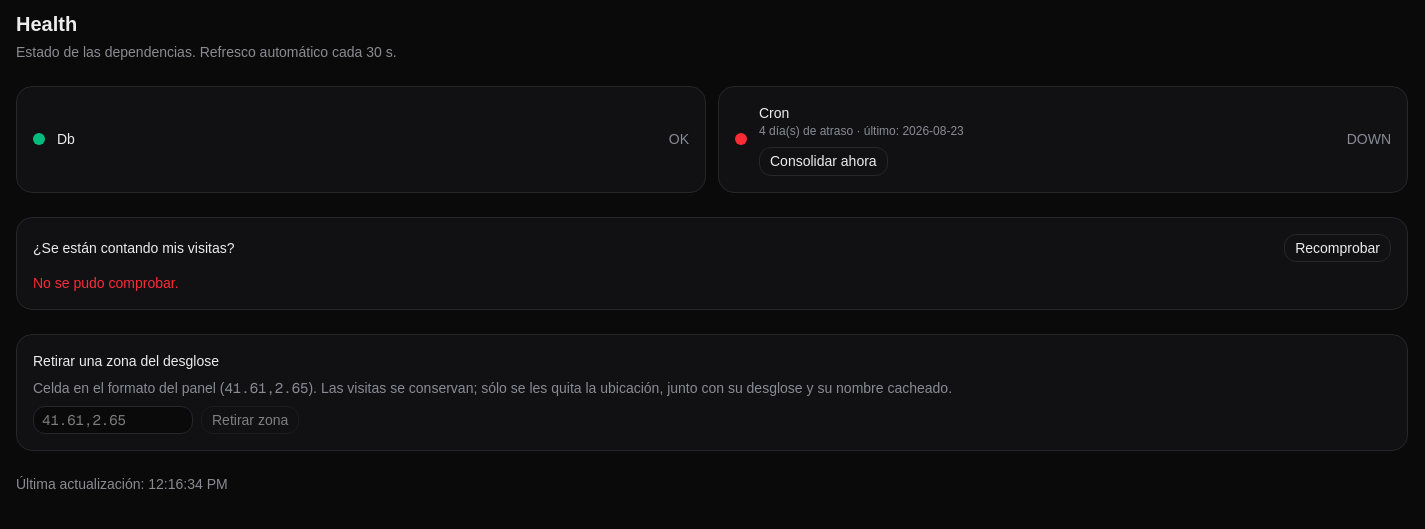
/admin/health · consolidar analítica a mano › un fallo se muestra con su motivo, no en silencio
This screenshot has width=1425, height=529.
Expected: the text "4 día(s) de atraso · último: 2026-08-23" is shown, [759,124,964,138]
What coordinates should you click on to do the following:
click the button "Consolidar ahora"
I would click on:
 (823, 161)
Its box is [759,147,888,176].
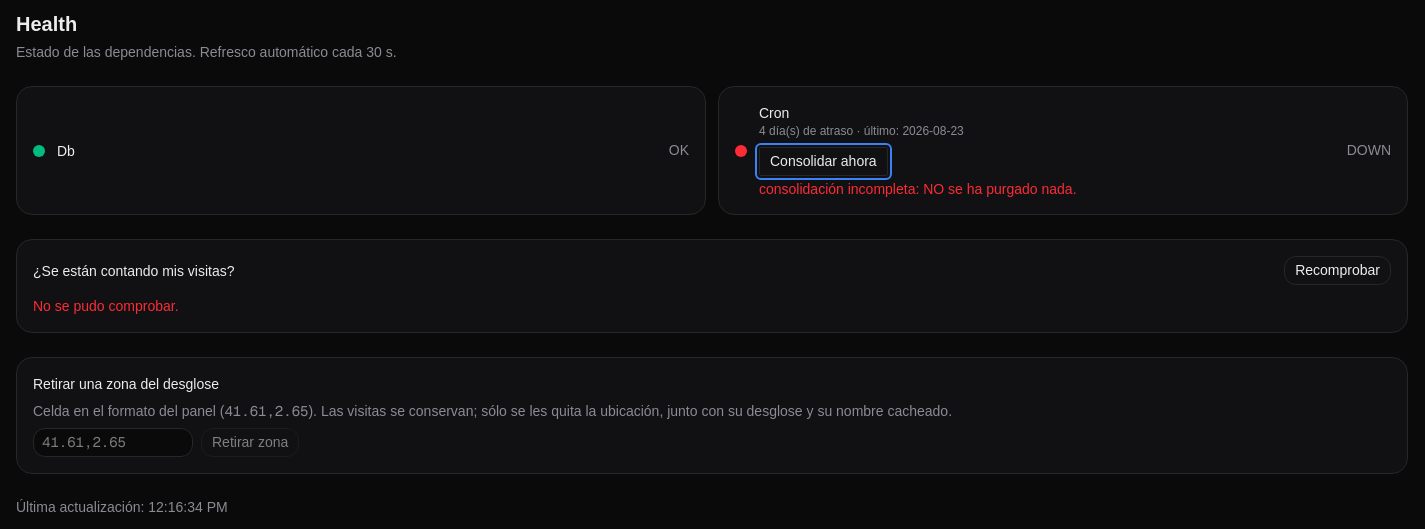
Expected: the text "consolidación incompleta: NO se ha purgado nada." is shown, [759,181,1076,197]
